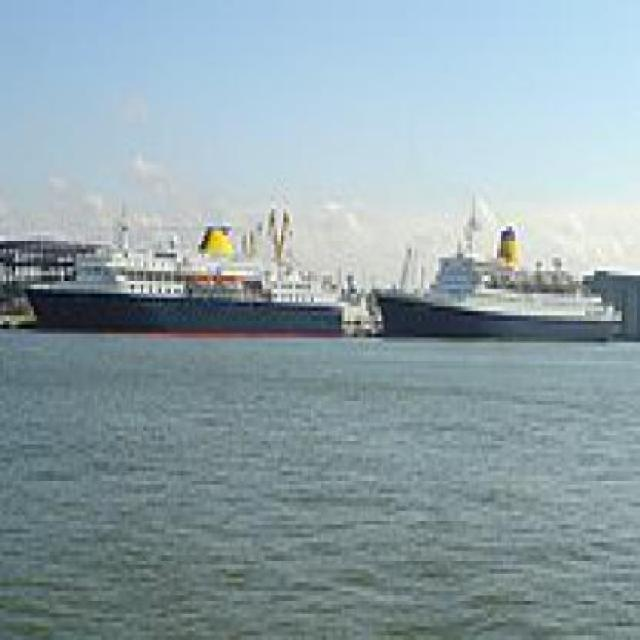cruise: (28, 219, 385, 362), (358, 192, 638, 356)
